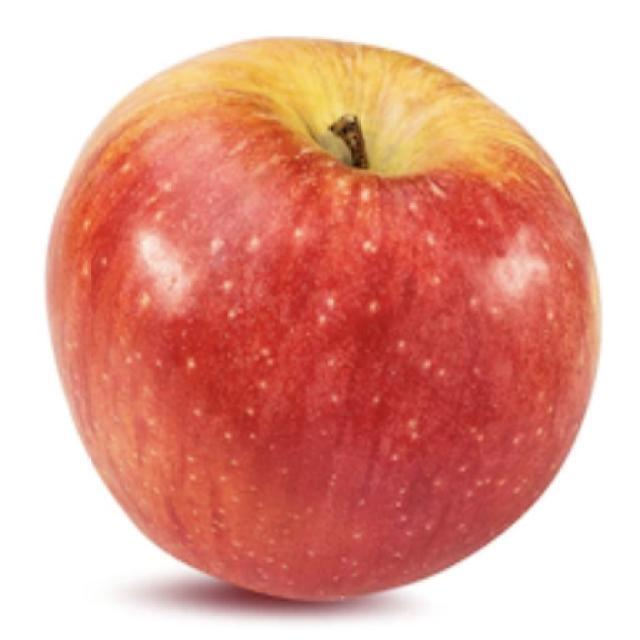Apple: (43, 34, 602, 604)
